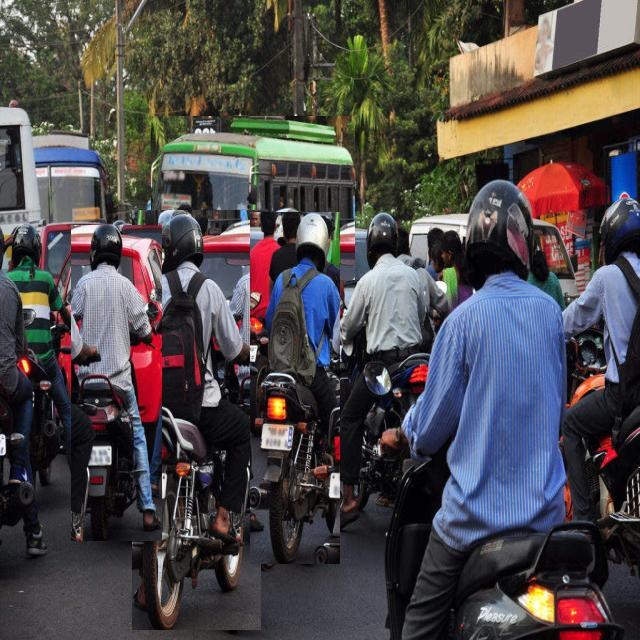bus: (151, 116, 355, 280)
motorcycle: (365, 182, 622, 639), (132, 210, 261, 630), (250, 213, 340, 564), (71, 225, 162, 541)
